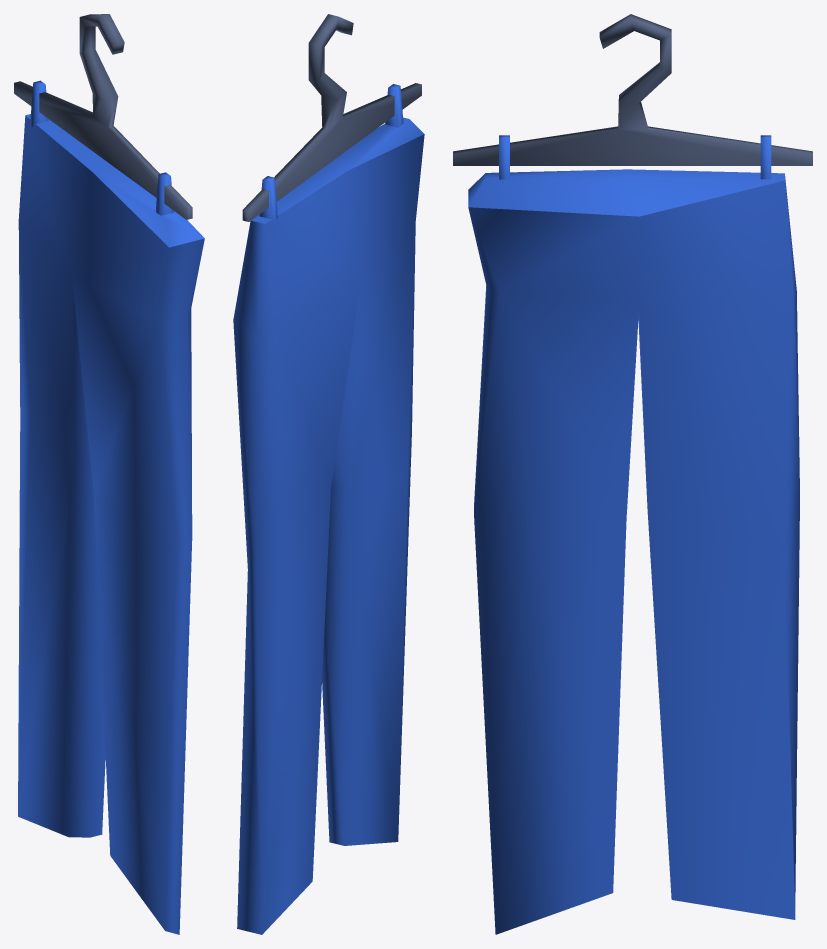
Rendered from clothes2.fbx.
3 renders of one model, left to right at view 1: azimuth 30°, elevation 25°; view 2: azimuth 150°, elevation 25°; view 3: azimuth 270°, elevation 25°, orthographic. The views are drawn at different scales.
Parts seen in each view (by area): view 1: clothes2; view 2: clothes2; view 3: clothes2.
Boxes of the visible parts, <box> form: clothes2: <box>14,14,204,934</box>; clothes2: <box>233,14,424,934</box>; clothes2: <box>453,14,812,934</box>.
Size of the model in its own units: 0.2343 by 2.7 by 0.9653.
